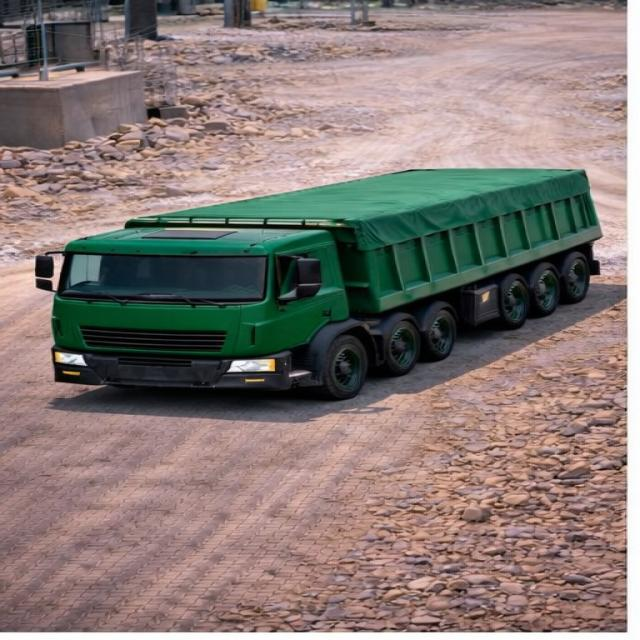trailer: (120, 169, 594, 224)
truck: (32, 146, 610, 390)
